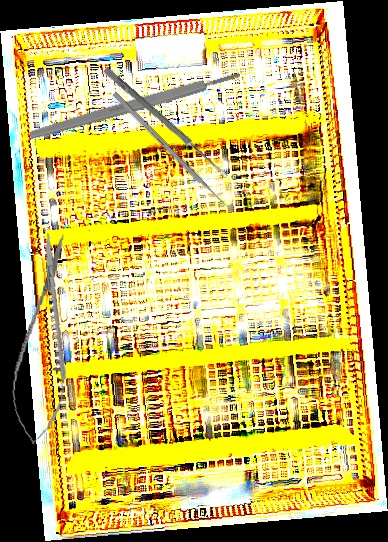Micro Scissor: (6, 230, 82, 448)
Pusher: (111, 91, 235, 215)
Scalpel Handle: (28, 69, 242, 142)
Surgical Spoon: (102, 66, 230, 180)
